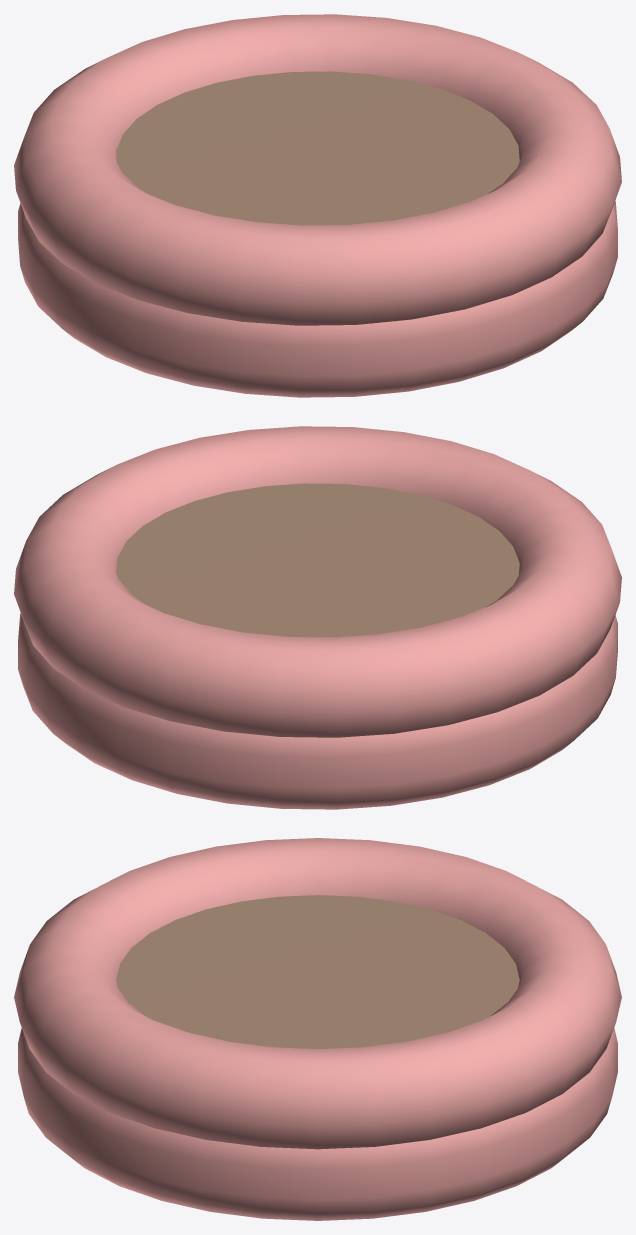
The model's file is bowlPink.glb.
The picture shows the model from 3 angles, top to bottom: view 1: azimuth 30°, elevation 25°; view 2: azimuth 150°, elevation 25°; view 3: azimuth 270°, elevation 25°; orthographic projection.
Parts seen in each view (by area): view 1: Bowl rim, Food, Bowl base; view 2: Bowl rim, Food, Bowl base; view 3: Bowl rim, Food, Bowl base.
Part boxes in pixels (box(x1,y1,x2,y2)): Bowl rim: box(14, 14, 621, 325); Food: box(116, 71, 519, 225); Bowl base: box(18, 201, 617, 397); Bowl rim: box(14, 426, 621, 737); Food: box(116, 483, 519, 637); Bowl base: box(18, 613, 617, 809); Bowl rim: box(14, 838, 621, 1149); Food: box(116, 895, 519, 1049); Bowl base: box(18, 1028, 617, 1220).
Size of the model in its own units: 0.73 by 0.2068 by 0.73.
